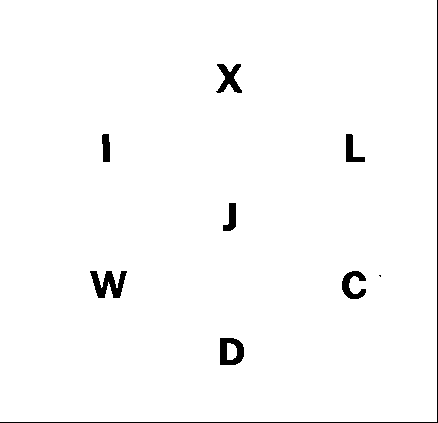I: (94, 128, 117, 169)
